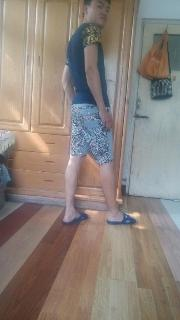short sleeve top: (65, 23, 109, 106)
shorts: (70, 98, 114, 165)
